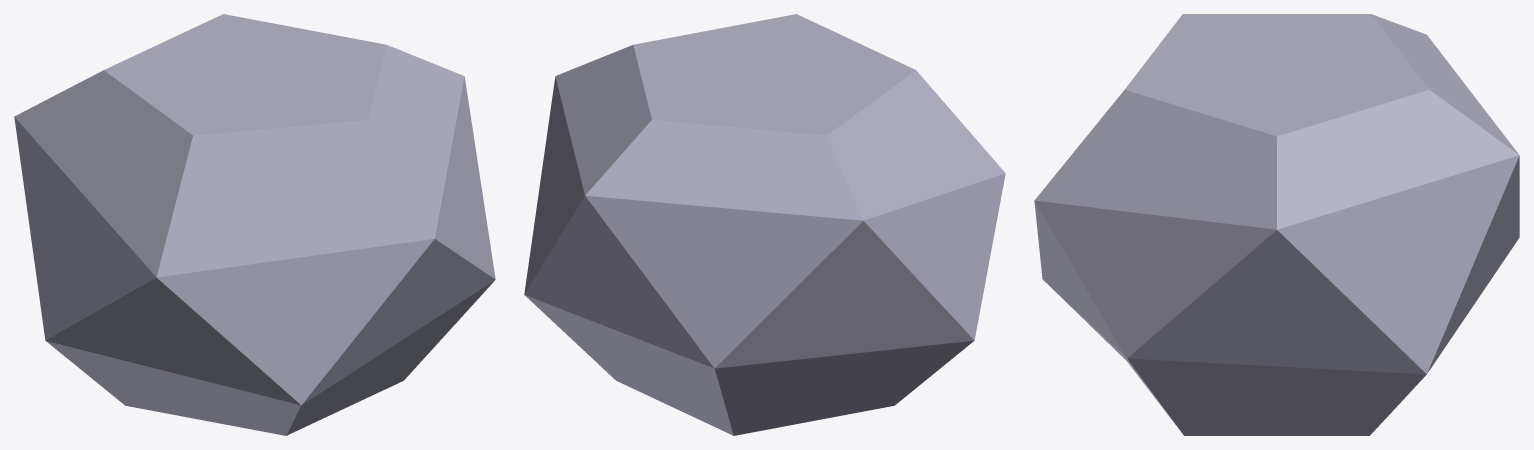
The model's file is Batubesar1.fbx.
The picture shows the model from 3 angles, left to right: view 1: azimuth 30°, elevation 25°; view 2: azimuth 150°, elevation 25°; view 3: azimuth 270°, elevation 25°; orthographic projection. The views are drawn at different scales.
Visible parts, largest first — view 1: rock_3a; view 2: rock_3a; view 3: rock_3a.
Boxes of the visible parts, left/top/right/bottom form: rock_3a: left=14, top=14, right=495, bottom=435; rock_3a: left=524, top=14, right=1005, bottom=435; rock_3a: left=1034, top=14, right=1519, bottom=435.
Bounding box in the file's own units: 449 × 305 × 427.
